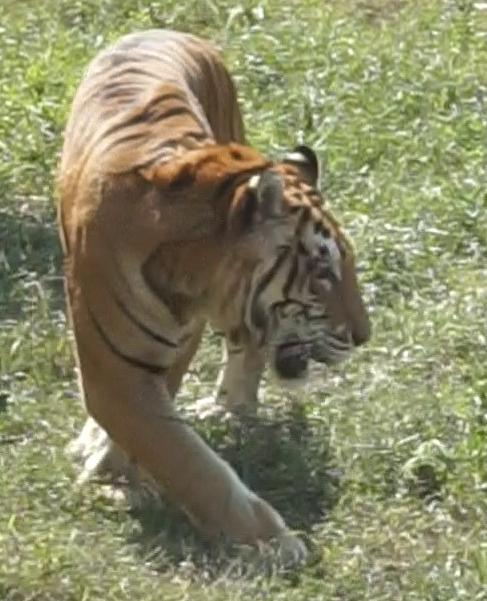tiger: (58, 30, 368, 555)
